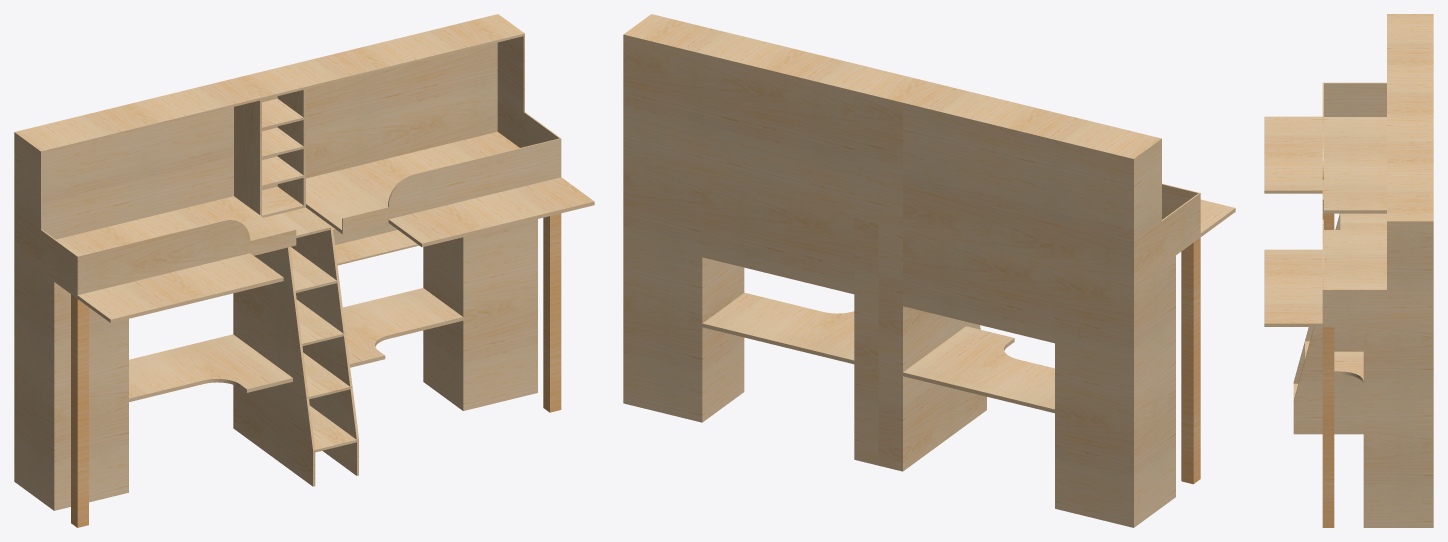
File: 001_dorm bed assembly_0512.obj
3 views of the same model, side by side, from view 1: azimuth 30°, elevation 25°; view 2: azimuth 150°, elevation 25°; view 3: azimuth 270°, elevation 25° (orthographic). The views are drawn at different scales.
Parts seen in each view (by area): view 1: object 1, mesh 2 Boss-Extrude1; view 2: object 1, mesh 2 Boss-Extrude1; view 3: object 1, mesh 2 Boss-Extrude1.
Part boxes in pixels (<box>): object 1: <box>14,14,594,510</box>; mesh 2 Boss-Extrude1: <box>71,213,561,527</box>; object 1: <box>623,14,1235,527</box>; mesh 2 Boss-Extrude1: <box>1181,237,1200,484</box>; object 1: <box>1264,14,1433,527</box>; mesh 2 Boss-Extrude1: <box>1322,213,1334,527</box>.
Bounding box in the file's own units: 4.2 × 2.9 × 1.45.
2 materials, 2 textured.
